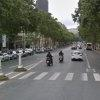Crosswalk: (14, 67, 99, 82)
